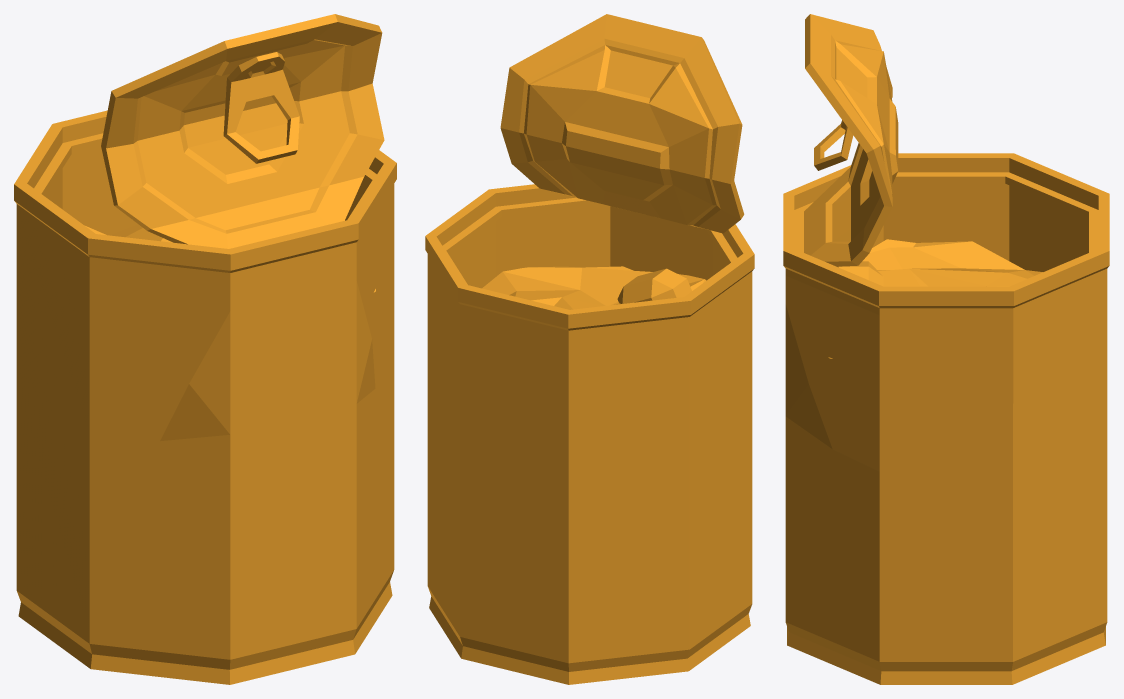
Rendered from SM_Can_Catfood_Big_Opened.fbx.
3 renders of one model, left to right at view 1: azimuth 30°, elevation 25°; view 2: azimuth 150°, elevation 25°; view 3: azimuth 270°, elevation 25°, orthographic. The views are drawn at different scales.
Parts seen in each view (by area): view 1: SM_Can_Catfood_Big_Opened; view 2: SM_Can_Catfood_Big_Opened; view 3: SM_Can_Catfood_Big_Opened.
Boxes of the visible parts, <box> form: SM_Can_Catfood_Big_Opened: <box>14,14,396,684</box>; SM_Can_Catfood_Big_Opened: <box>425,14,754,684</box>; SM_Can_Catfood_Big_Opened: <box>783,14,1109,684</box>.
Bounding box in the file's own units: 0.0823 × 0.1611 × 0.0823.
